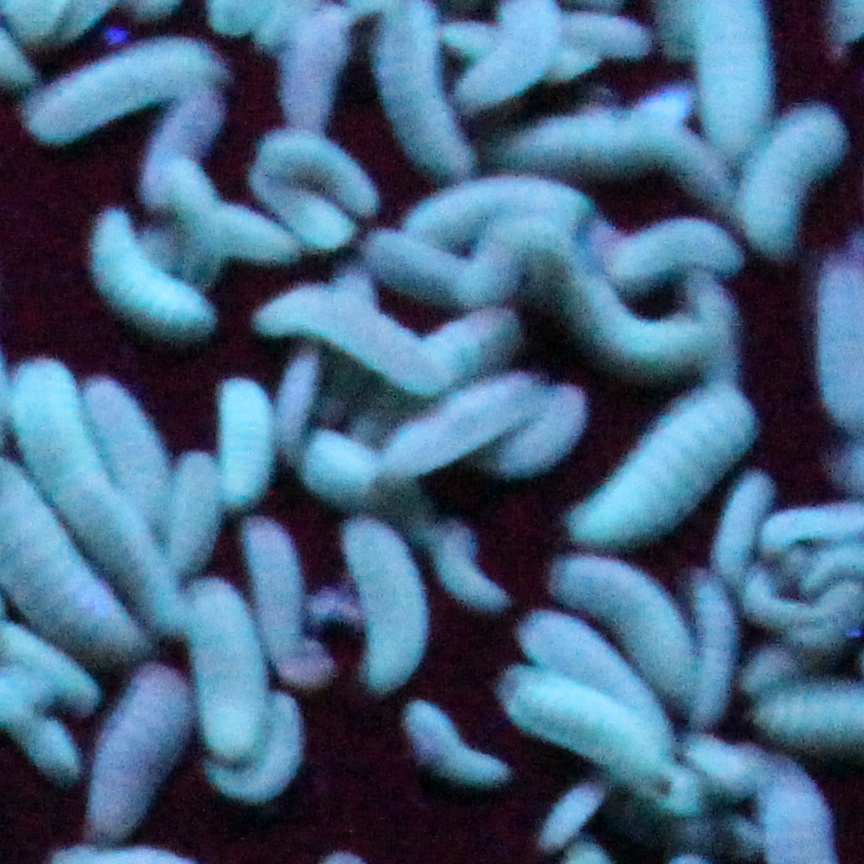larve: (564, 387, 764, 552), (540, 543, 704, 712), (23, 24, 241, 150), (245, 277, 449, 398), (491, 661, 673, 788), (78, 662, 200, 851), (81, 199, 218, 356), (729, 92, 853, 258), (397, 163, 599, 256), (335, 506, 431, 693), (232, 505, 326, 683), (259, 123, 385, 221), (395, 696, 518, 796), (485, 372, 590, 487), (594, 221, 752, 288), (209, 366, 278, 511)
